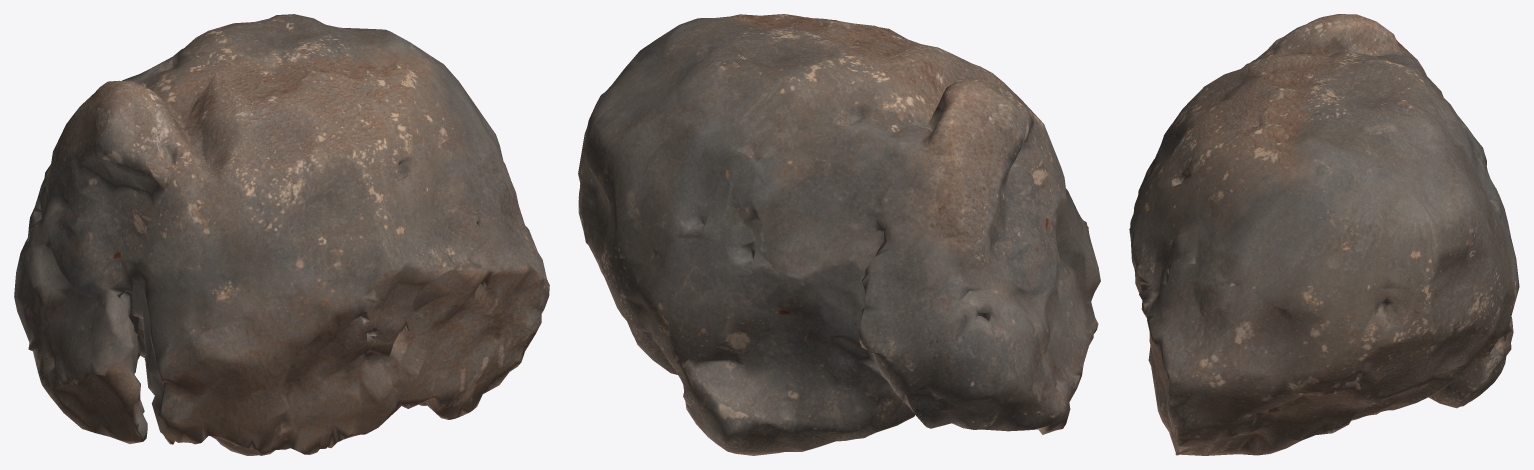
File: SM_xijaegd_tier_2.gltf
The picture shows the model from 3 angles, left to right: view 1: azimuth 30°, elevation 25°; view 2: azimuth 150°, elevation 25°; view 3: azimuth 270°, elevation 25°; orthographic projection. The views are drawn at different scales.
Parts seen in each view (by area): view 1: xijaegd_LOD2_TIER2_000; view 2: xijaegd_LOD2_TIER2_000; view 3: xijaegd_LOD2_TIER2_000.
Part boxes in pixels (x1=…): xijaegd_LOD2_TIER2_000: x1=14, y1=14, x2=549, y2=455; xijaegd_LOD2_TIER2_000: x1=578, y1=14, x2=1100, y2=455; xijaegd_LOD2_TIER2_000: x1=1129, y1=14, x2=1519, y2=455.
Bounding box in the file's own units: 1.52 × 1.14 × 1.21.
Materials: 1 (1 with a texture image).
